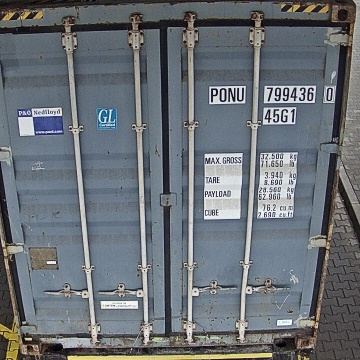serial_id: (210, 87, 333, 102)
